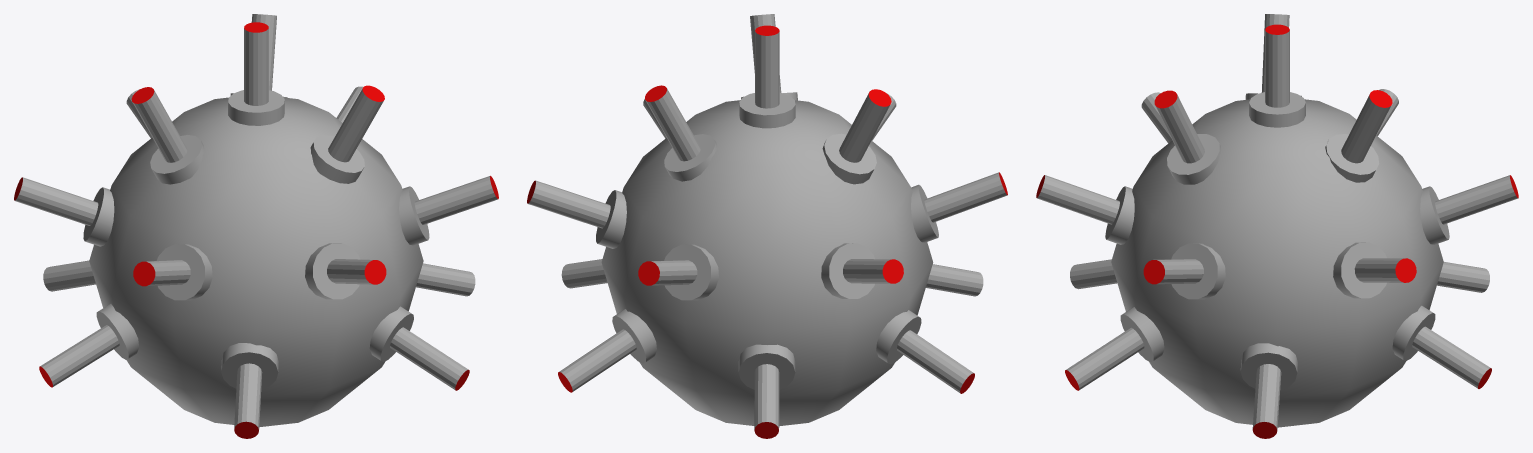
File: mdl_seaMine01.fbx
3 renders of one model, left to right at view 1: azimuth 30°, elevation 25°; view 2: azimuth 150°, elevation 25°; view 3: azimuth 270°, elevation 25°, orthographic.
Visible parts, largest first — view 1: mdl_seaMine02; view 2: mdl_seaMine02; view 3: mdl_seaMine02.
Part boxes in pixels (x1,y1,x2,y2): mdl_seaMine02: (14,14,498,438); mdl_seaMine02: (527,14,1007,438); mdl_seaMine02: (1036,14,1518,438).
Bounding box in the file's own units: 480 × 420 × 480.
